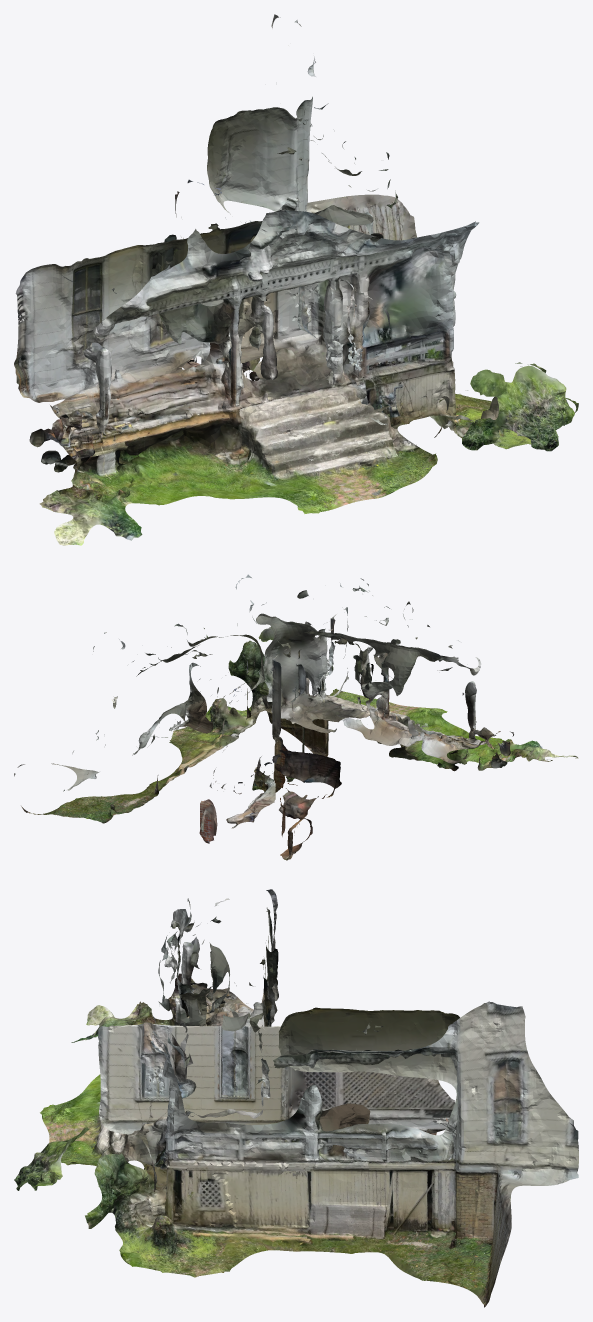
3 renders of one model, top to bottom at view 1: azimuth 30°, elevation 25°; view 2: azimuth 150°, elevation 25°; view 3: azimuth 270°, elevation 25°, orthographic. The views are drawn at different scales.
Bounding box in the file's own units: 14.2 × 7.23 × 13.48.
2 materials, 2 textured.
